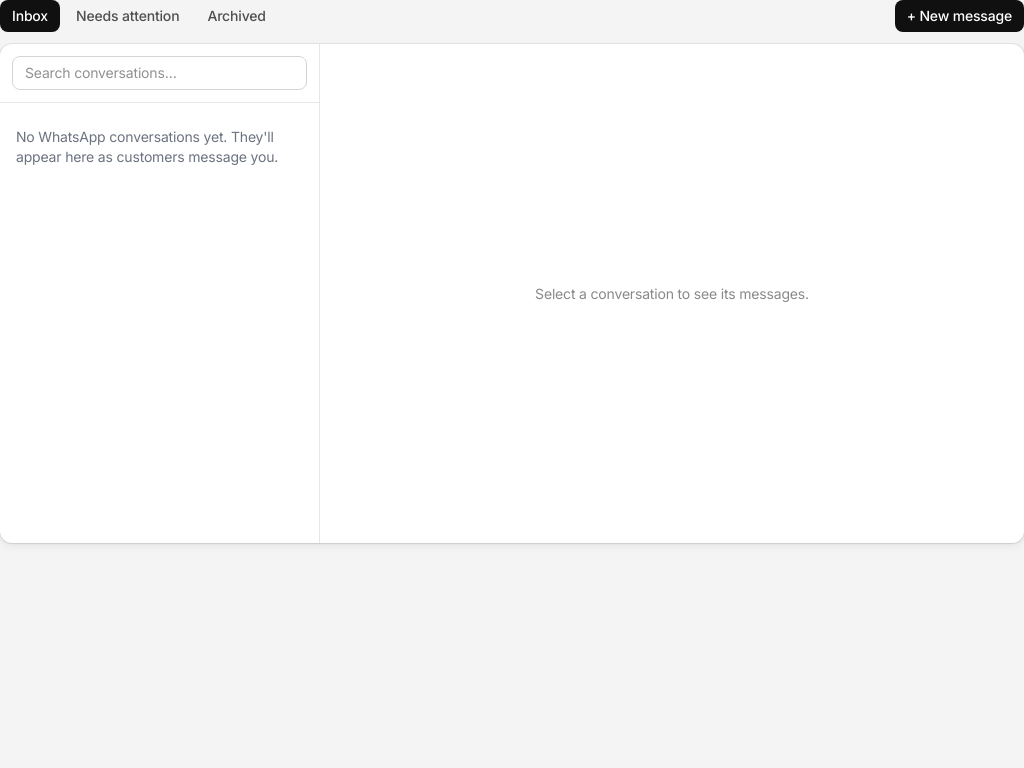
Test: WhatsAppInbox - new message › keeps Send disabled until a valid recipient and a message are both present
Click the button "+ New message" at (959, 16), box [895, 0, 1023, 32]
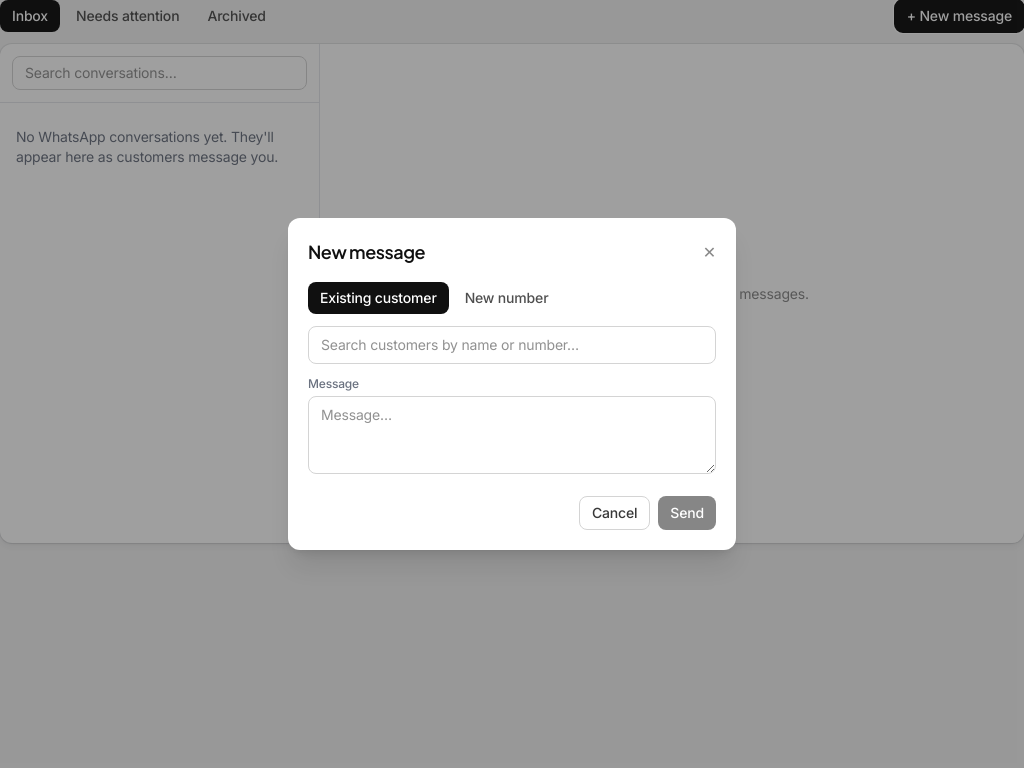
Expected: the button "Send" is disabled, [658, 496, 716, 530]
Type "Priya" into the search field with placeholder "Search customers by name or number…" at (512, 345), box [308, 326, 716, 364]
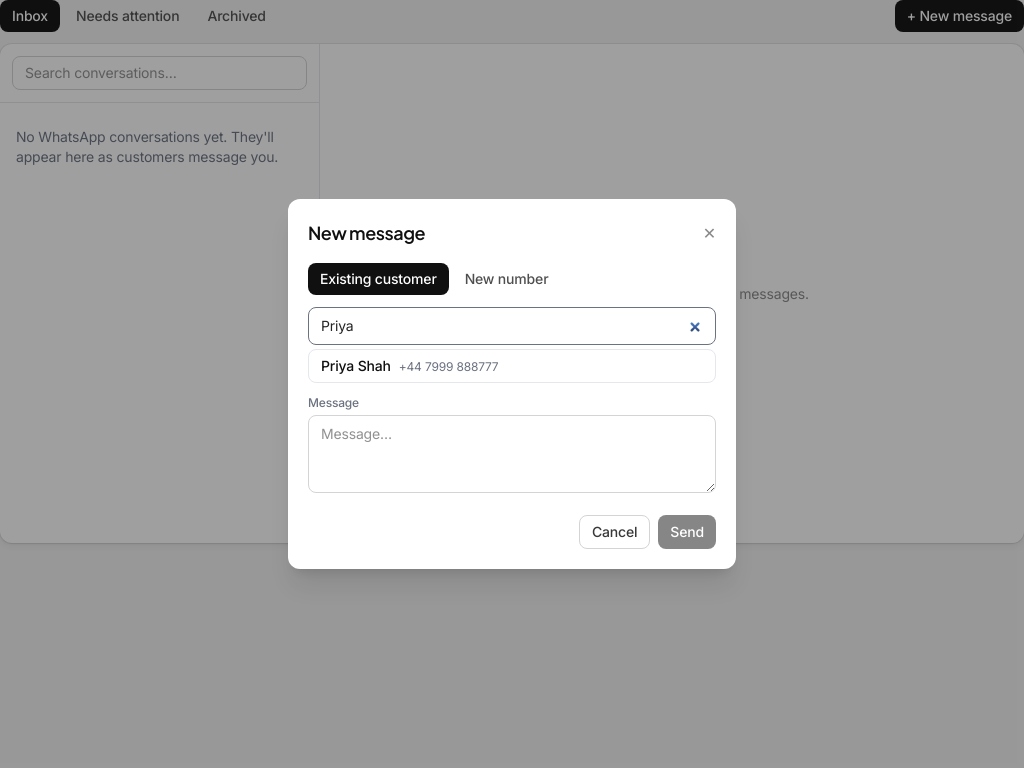
Click the text "Priya Shah" at (338, 366), box [321, 357, 391, 374]
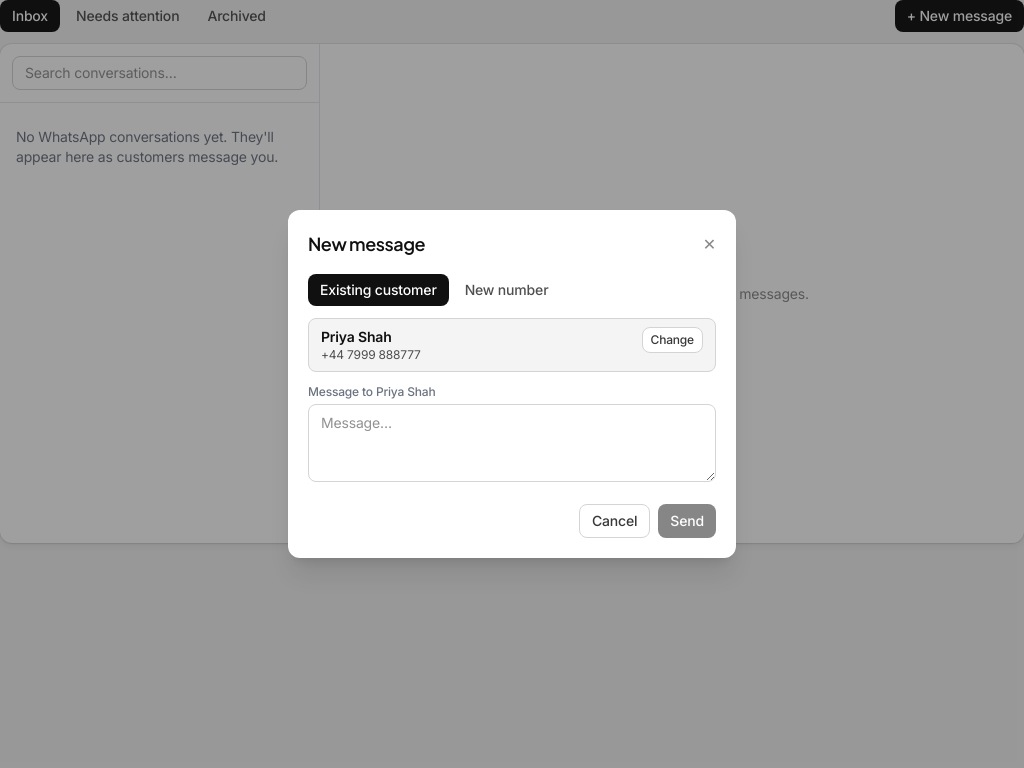
Expected: the button "Send" is disabled, [658, 504, 716, 538]
Type "hi" into the text box with placeholder "Message…" at (512, 443), box [308, 404, 716, 482]
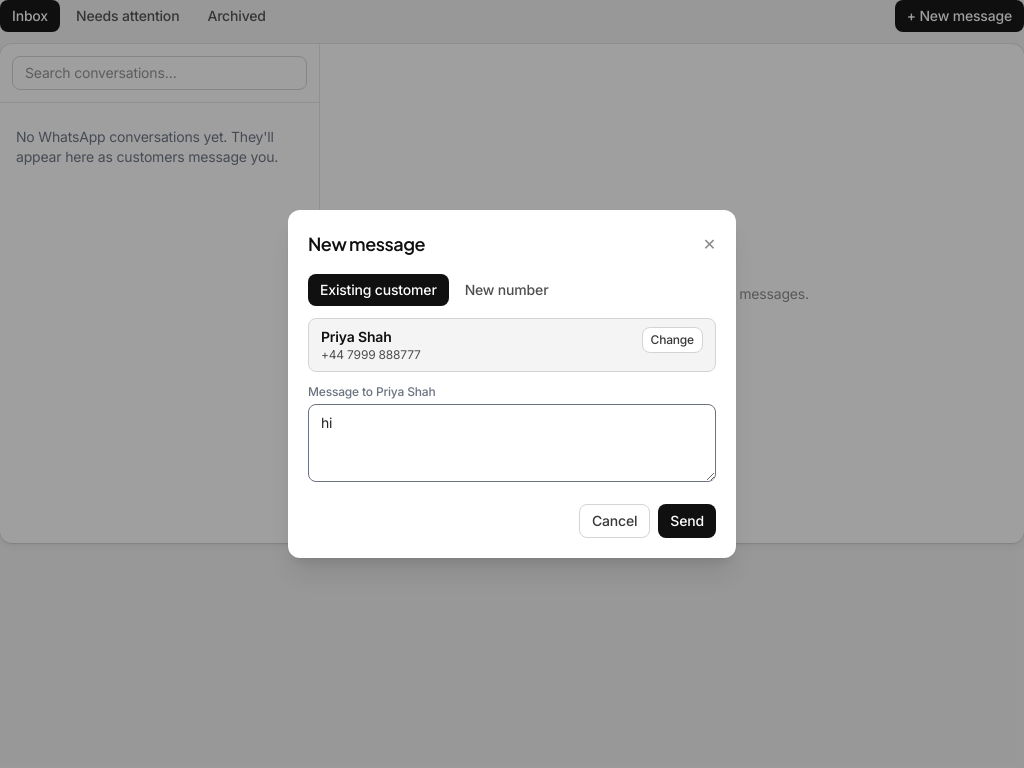
Expected: the button "Send" is enabled, [658, 504, 716, 538]
